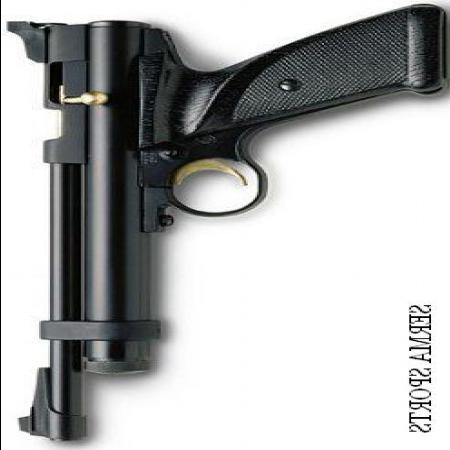Pistol: (2, 3, 441, 440)
